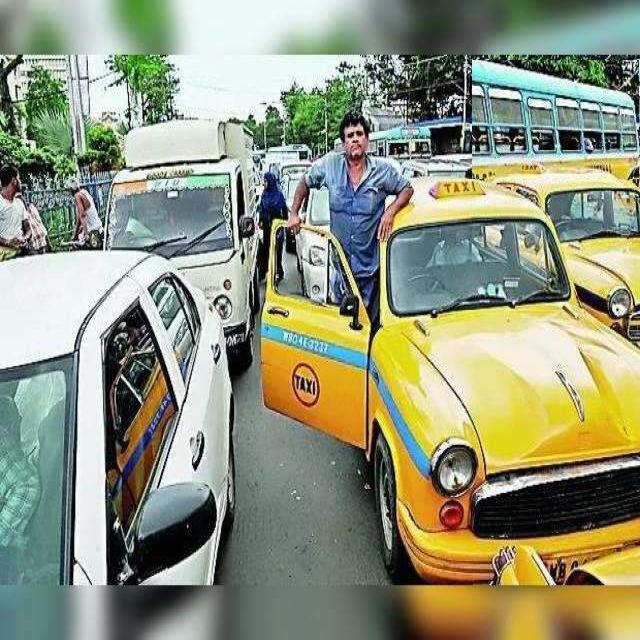bus: (472, 61, 640, 179)
car: (261, 182, 640, 584)
truck: (105, 120, 258, 358)
